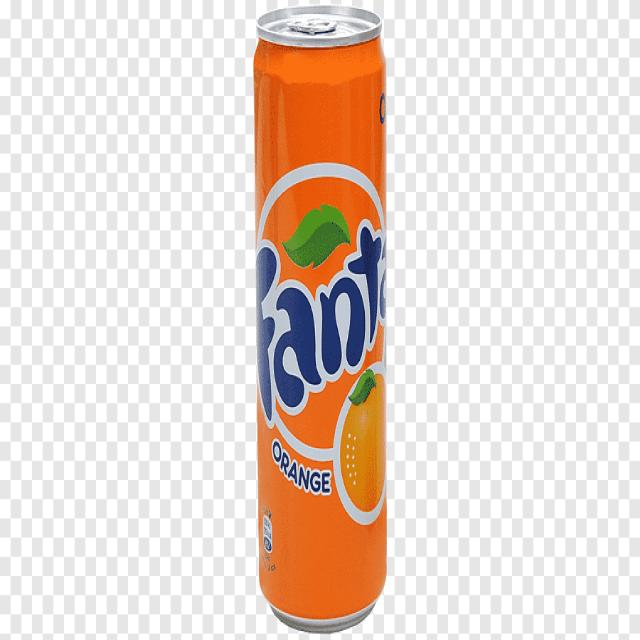fanta: (251, 10, 394, 624)
